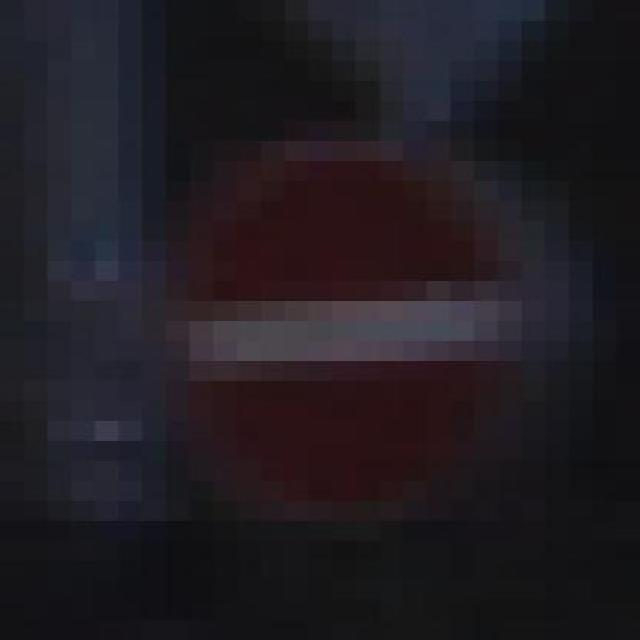B2: (152, 136, 534, 528)
